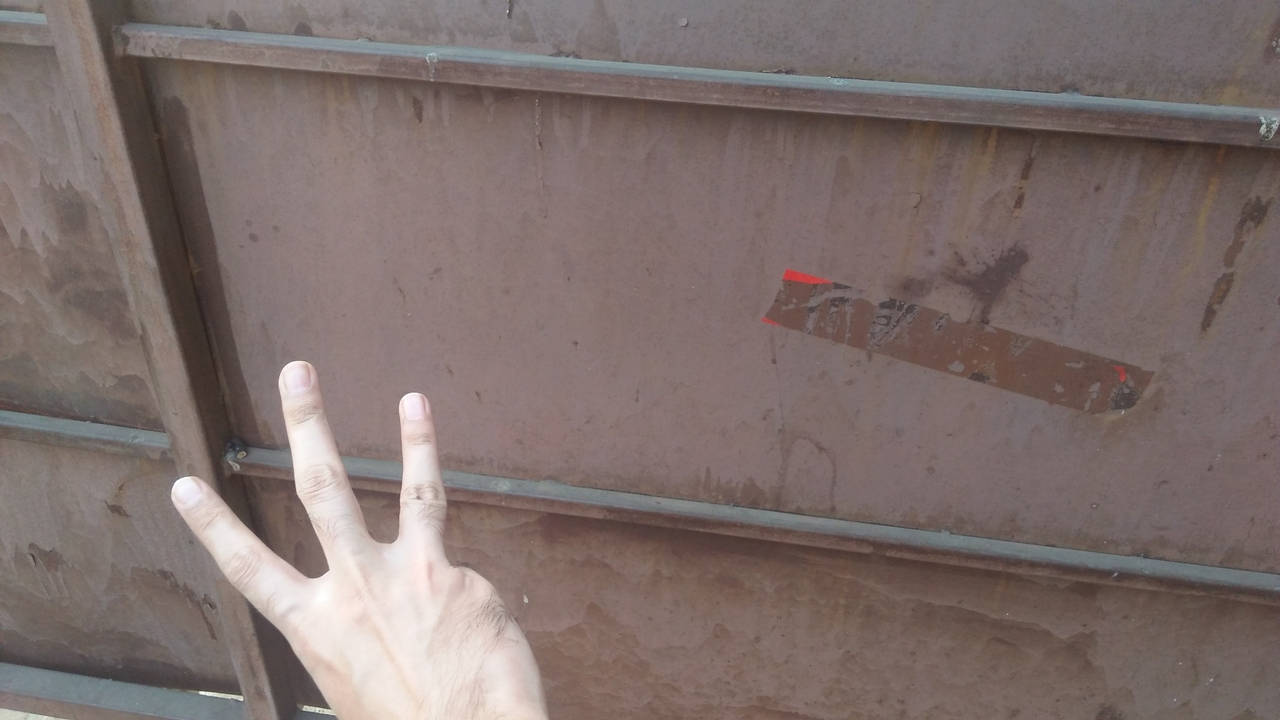fingertip: (266, 358, 322, 414), (155, 474, 215, 511), (390, 388, 434, 432)
